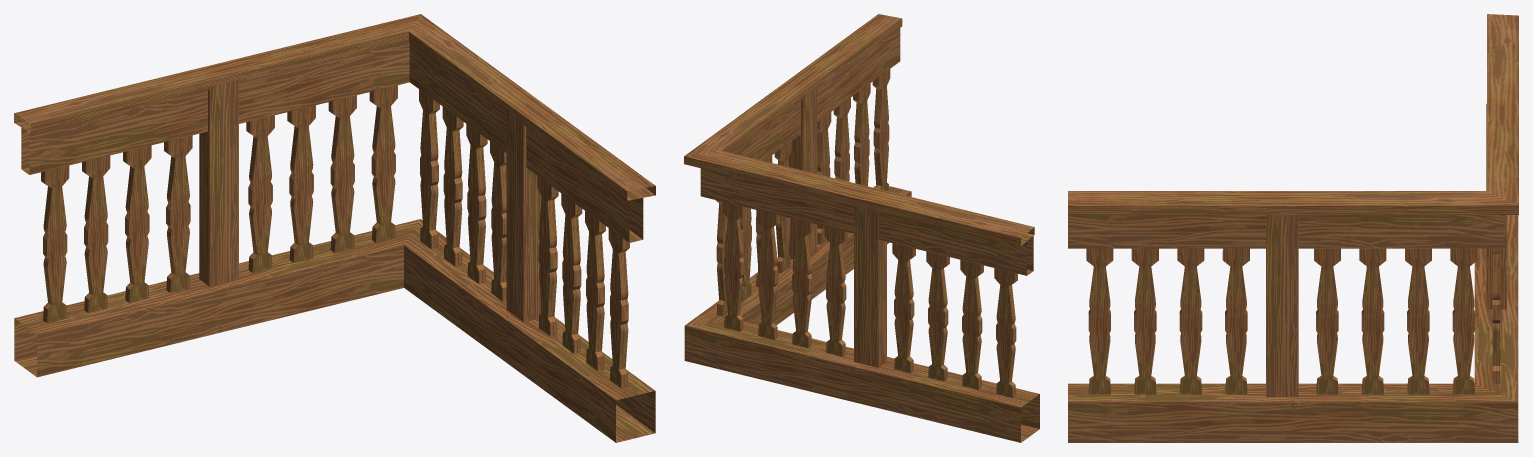
The model's file is Balcony_Simple_Corner.gltf.
3 views of the same model, side by side, from view 1: azimuth 30°, elevation 25°; view 2: azimuth 150°, elevation 25°; view 3: azimuth 270°, elevation 25° (orthographic). The views are drawn at different scales.
Parts seen in each view (by area): view 1: Balcony_Simple_Corner; view 2: Balcony_Simple_Corner; view 3: Balcony_Simple_Corner.
Part boxes in pixels (box(x1,y1,x2,y2)): Balcony_Simple_Corner: box(14, 14, 655, 442); Balcony_Simple_Corner: box(684, 14, 1039, 442); Balcony_Simple_Corner: box(1068, 14, 1518, 442).
Size of the model in its own units: 2.1 by 1.23 by 2.1.
Materials: 1 (1 with a texture image).
